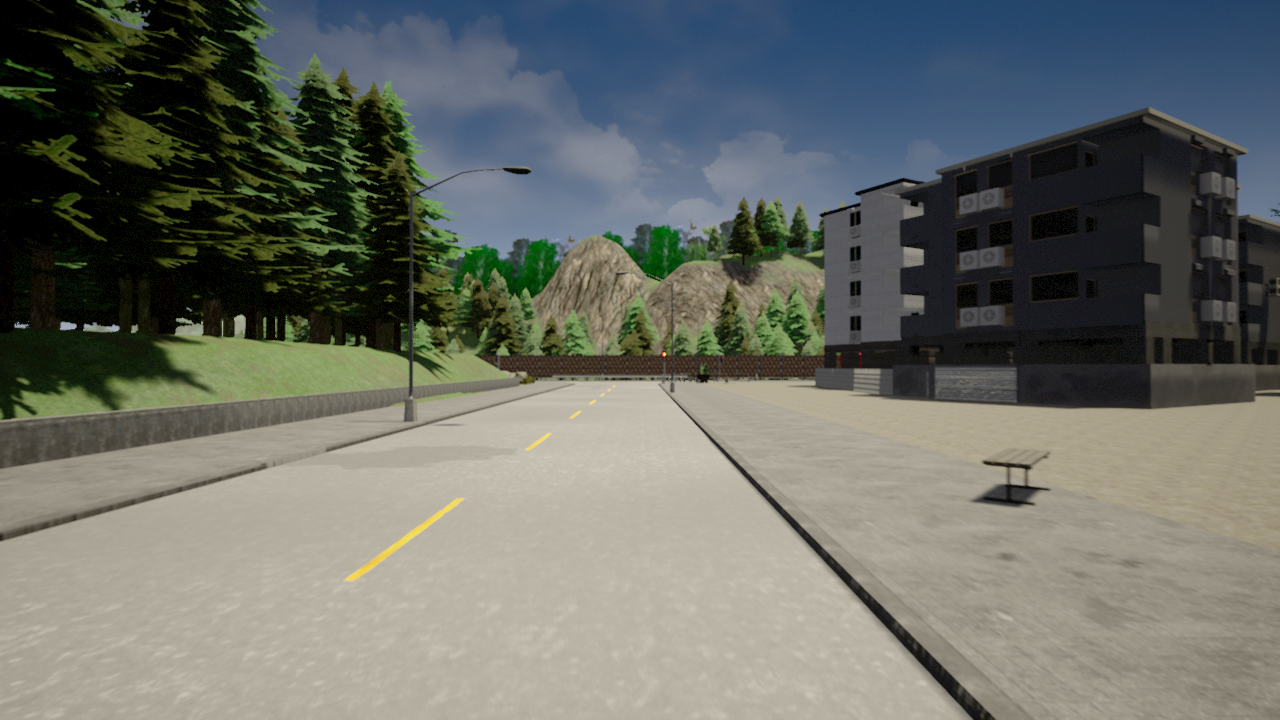red: (661, 351, 667, 363)
